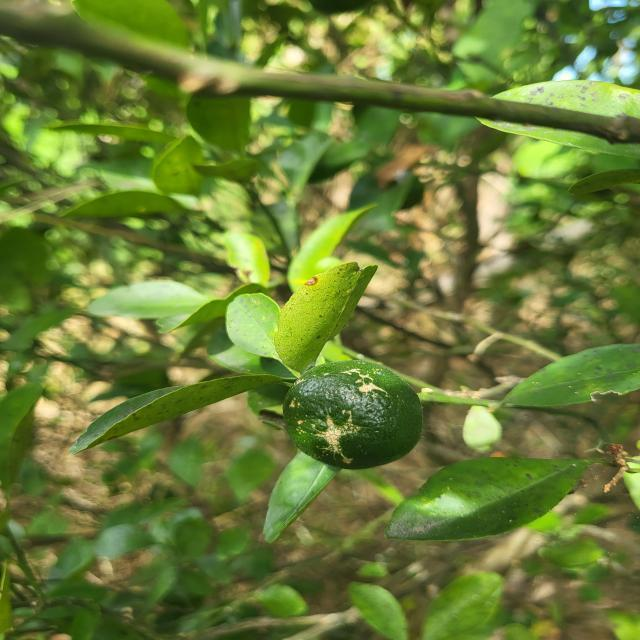thrips: (280, 360, 426, 468)
